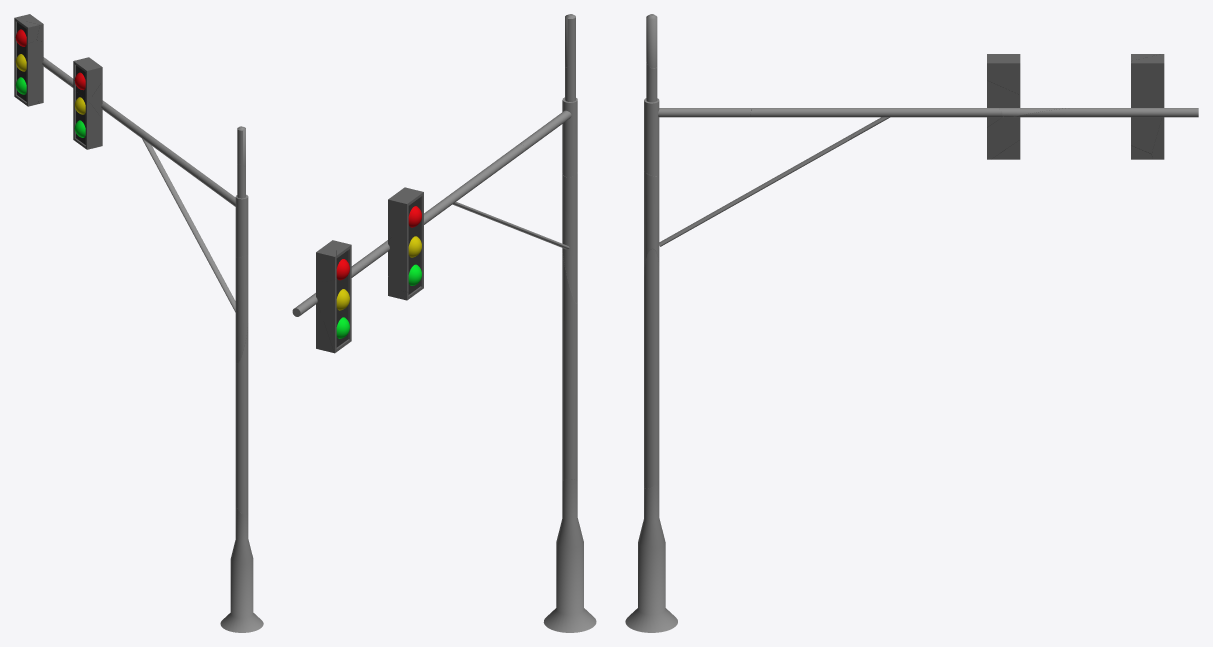
Rendered from TrafficLightScatter.fbx.
The picture shows the model from 3 angles, left to right: view 1: azimuth 30°, elevation 25°; view 2: azimuth 150°, elevation 25°; view 3: azimuth 270°, elevation 25°; orthographic projection. The views are drawn at different scales.
Visible parts, largest first — view 1: MainPole_cell.001, MainPole_cell.003, LightBox1_cell, MainPole_cell, MainPole_cell.004, LightBox2_cell, LightPole_cell.001, LightBox2_cell.003, SupportPole_cell.001, LightPole_cell.003; view 2: MainPole_cell.001, MainPole_cell.003, MainPole_cell, LightBox1_cell, MainPole_cell.004, LightBox2_cell, LightBox2_cell.003, LightPole_cell.001, LightBox1_cell.003, LightPole_cell.003, MainPole_cell.002, LightBox1_cell.002 (+1 smaller); view 3: MainPole_cell.001, MainPole_cell.003, LightPole_cell.001, LightPole_cell, MainPole_cell.004, LightBox1_cell, MainPole_cell, LightBox2_cell.003, LightBox1_cell.003, LightBox2_cell, LightPole_cell.003, SupportPole_cell.001.
Boxes of the visible parts, x1=… form: MainPole_cell.001: x1=220, y1=506, x2=263, y2=632; MainPole_cell.003: x1=235, y1=324, x2=248, y2=514; LightBox1_cell: x1=14, y1=37, x2=43, y2=106; MainPole_cell: x1=235, y1=255, x2=248, y2=363; MainPole_cell.004: x1=235, y1=164, x2=248, y2=257; LightBox2_cell: x1=73, y1=90, x2=102, y2=149; LightPole_cell.001: x1=101, y1=100, x2=202, y2=180; LightBox2_cell.003: x1=73, y1=57, x2=102, y2=101; SupportPole_cell.001: x1=180, y1=206, x2=235, y2=312; LightPole_cell.003: x1=198, y1=173, x2=235, y2=206; MainPole_cell.001: x1=543, y1=479, x2=596, y2=632; MainPole_cell.003: x1=562, y1=249, x2=577, y2=480; MainPole_cell: x1=562, y1=172, x2=577, y2=303; LightBox1_cell: x1=316, y1=264, x2=351, y2=353; MainPole_cell.004: x1=562, y1=60, x2=577, y2=177; LightBox2_cell: x1=388, y1=230, x2=423, y2=296; LightBox2_cell.003: x1=388, y1=187, x2=423, y2=239; LightPole_cell.001: x1=424, y1=144, x2=525, y2=224; LightBox1_cell.003: x1=316, y1=240, x2=338, y2=281; LightPole_cell.003: x1=518, y1=110, x2=571, y2=150; MainPole_cell.002: x1=565, y1=14, x2=575, y2=67; LightBox1_cell.002: x1=316, y1=303, x2=333, y2=352; MainPole_cell.001: x1=625, y1=478, x2=677, y2=632; MainPole_cell.003: x1=644, y1=249, x2=659, y2=488; LightPole_cell.001: x1=749, y1=108, x2=1002, y2=117; LightPole_cell: x1=1013, y1=108, x2=1198, y2=117; MainPole_cell.004: x1=644, y1=62, x2=659, y2=176; LightBox1_cell: x1=1131, y1=84, x2=1164, y2=153; MainPole_cell: x1=644, y1=171, x2=659, y2=275; LightBox2_cell.003: x1=987, y1=54, x2=1020, y2=94; LightBox1_cell.003: x1=1131, y1=54, x2=1164, y2=92; LightBox2_cell: x1=987, y1=106, x2=1020, y2=159; LightPole_cell.003: x1=658, y1=108, x2=750, y2=117; SupportPole_cell.001: x1=659, y1=165, x2=798, y2=246.
Bounding box in the file's own units: 107 × 1260 × 1079.
